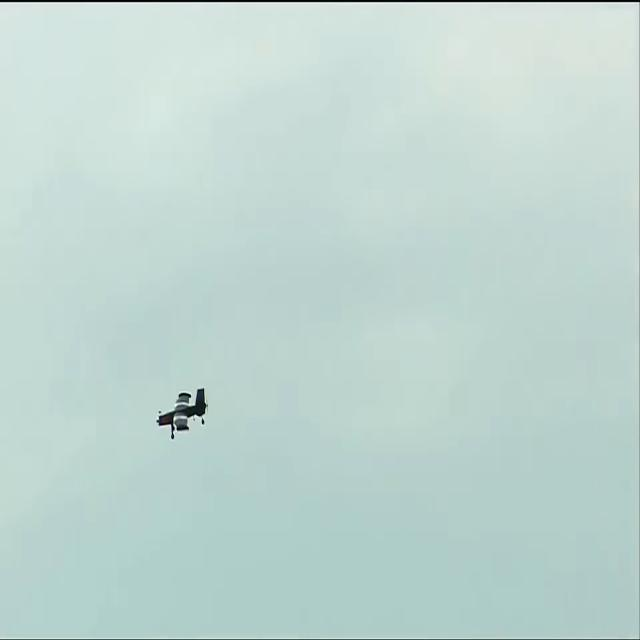iha: (156, 385, 208, 440)
